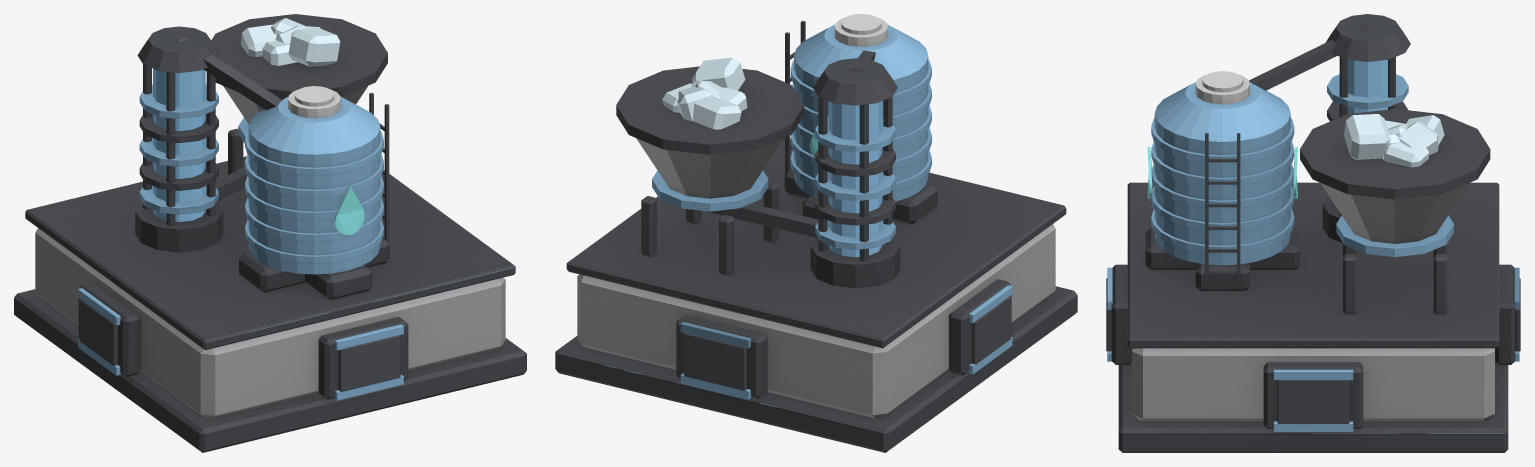
File: SM_WaterExtractor.fbx
3 renders of one model, left to right at view 1: azimuth 30°, elevation 25°; view 2: azimuth 150°, elevation 25°; view 3: azimuth 270°, elevation 25°, orthographic. The views are drawn at different scales.
Parts seen in each view (by area): view 1: SMN_WaterExtractor, WaterColumn, Ice, Emblem_WaterExtractor; view 2: SMN_WaterExtractor, Ice, WaterColumn; view 3: SMN_WaterExtractor, Ice, WaterColumn, Emblem_WaterExtractor.
Part boxes in pixels (x1=…): SMN_WaterExtractor: x1=14, y1=14, x2=526, y2=452; WaterColumn: x1=153, y1=68, x2=205, y2=221; Ice: x1=241, y1=18, x2=340, y2=66; Emblem_WaterExtractor: x1=334, y1=185, x2=364, y2=234; SMN_WaterExtractor: x1=555, y1=14, x2=1077, y2=452; Ice: x1=662, y1=57, x2=747, y2=129; WaterColumn: x1=828, y1=101, x2=882, y2=257; SMN_WaterExtractor: x1=1106, y1=14, x2=1520, y2=452; Ice: x1=1344, y1=114, x2=1444, y2=167; WaterColumn: x1=1348, y1=60, x2=1387, y2=113; Emblem_WaterExtractor: x1=1147, y1=147, x2=1297, y2=198.
Size of the model in its own units: 0.914 by 0.765 by 0.914.
